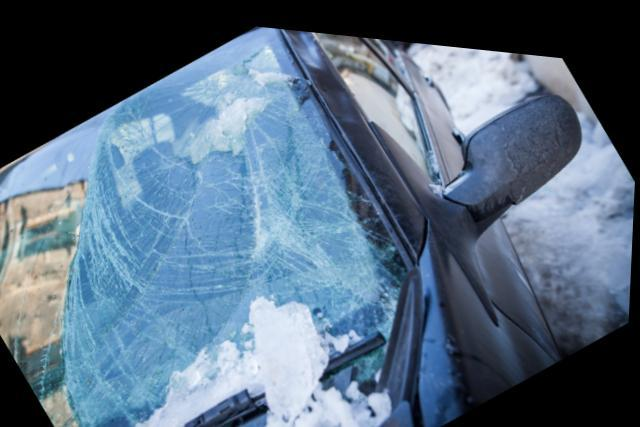glass shatter: (0, 21, 408, 427)
